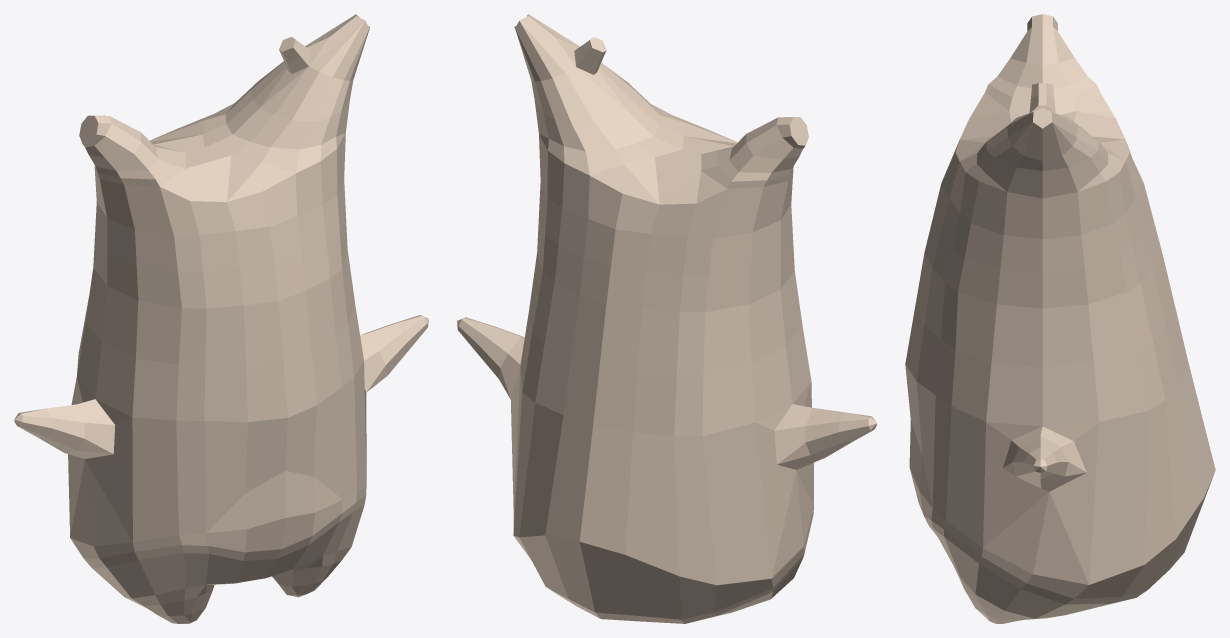
File: frame_0048.obj
3 renders of one model, left to right at view 1: azimuth 30°, elevation 25°; view 2: azimuth 150°, elevation 25°; view 3: azimuth 270°, elevation 25°, orthographic.
Visible parts, largest first — view 1: korok; view 2: korok; view 3: korok.
Part boxes in pixels (x1=…): korok: x1=14, y1=14, x2=428, y2=623; korok: x1=457, y1=14, x2=876, y2=623; korok: x1=905, y1=14, x2=1215, y2=623.
Bounding box in the file's own units: 1.65 × 2.07 × 1.05.
